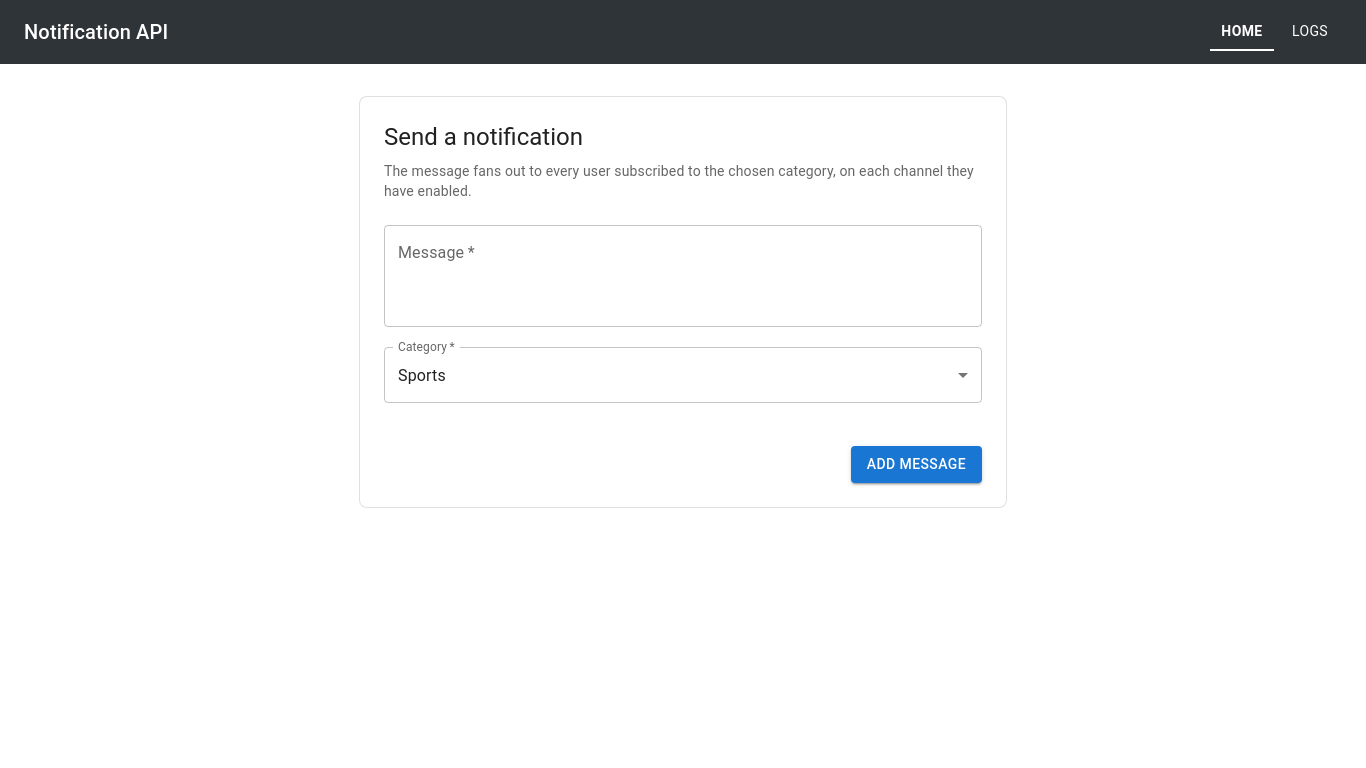
Test: AddMessage › shows a confirmation and clears the field after a successful send
expect the dropdown with id "categorySelection" reads "Sports": met, box 398,366 -> 446,385
Type "Hello" into the text box labelled "Message *" at [683, 276], box 398,242 -> 968,311
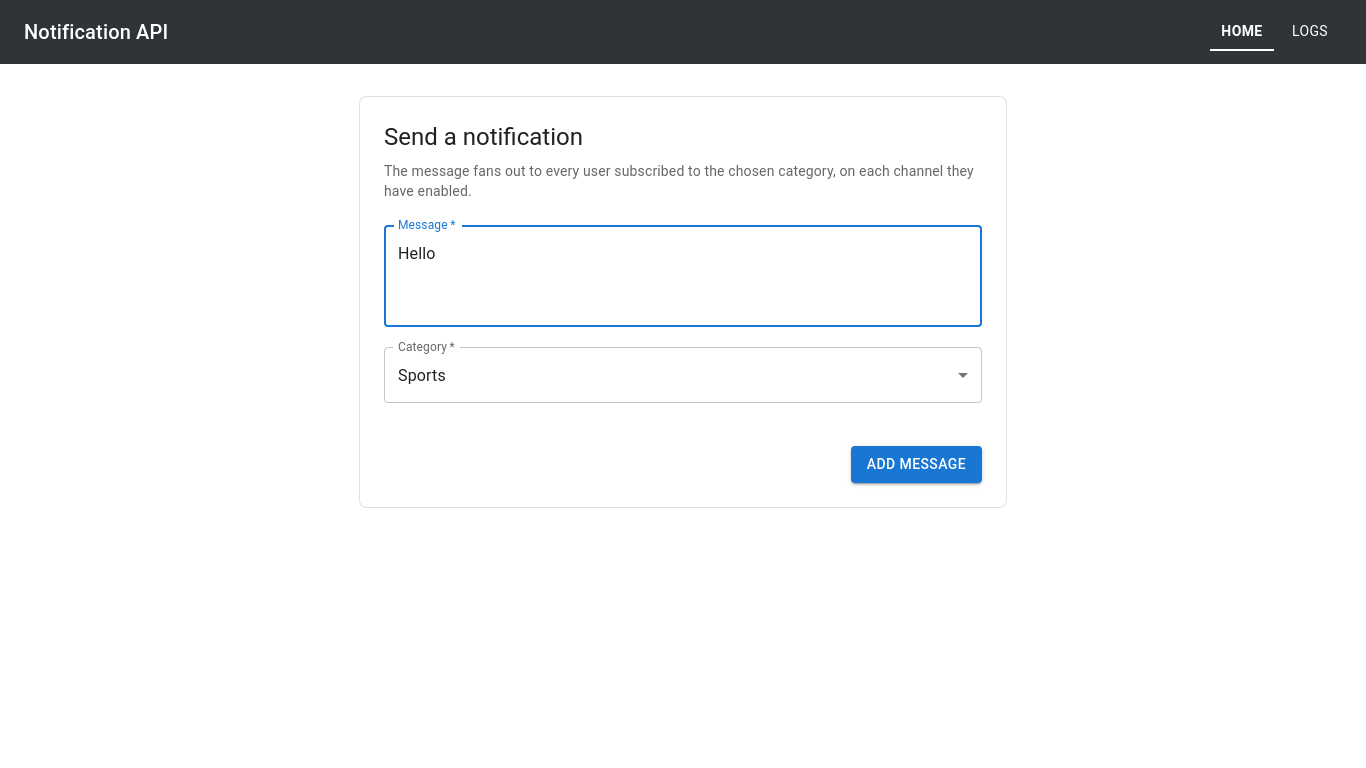
Click the button "Add message" at [916, 465], box 851,446 -> 982,483
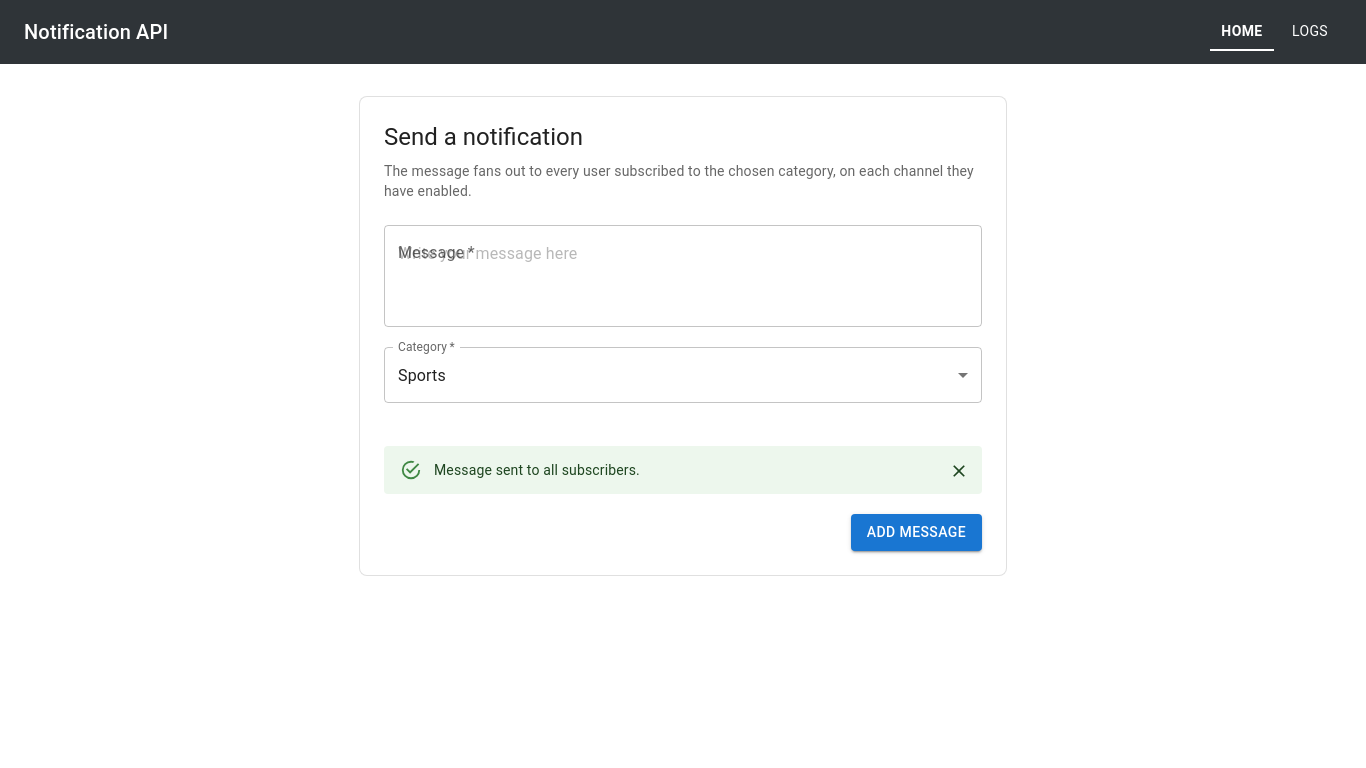
expect the text "Message sent to all subscribers." is shown: met, box 434,462 -> 640,478
expect the text box labelled "Message *" is empty: met, box 398,242 -> 968,311
